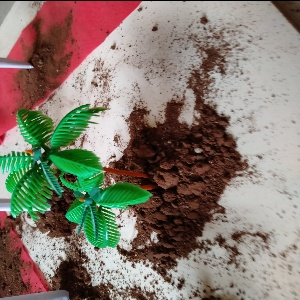plant: (6, 105, 156, 244)
